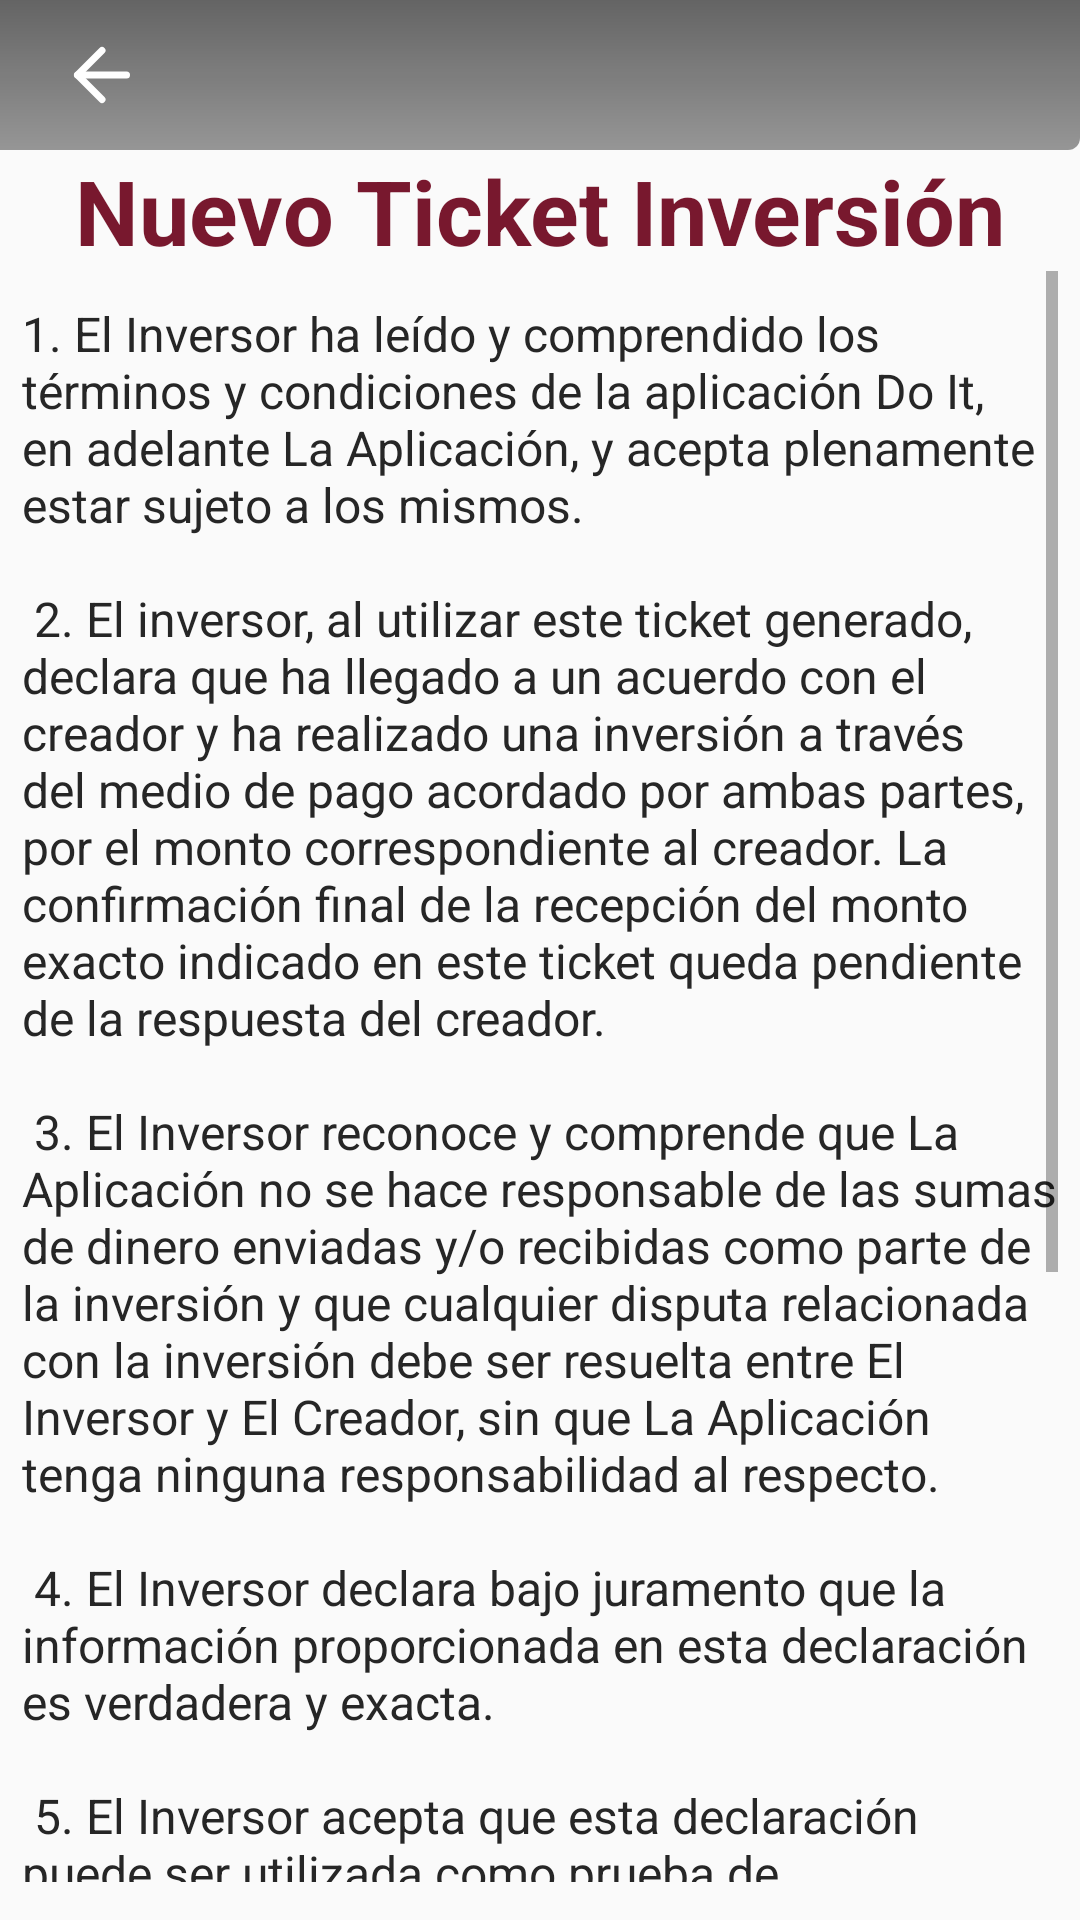

Icons on this 1080×1920 Android screen, each with the point to tap as (x,y):
Volver: (102,75)
